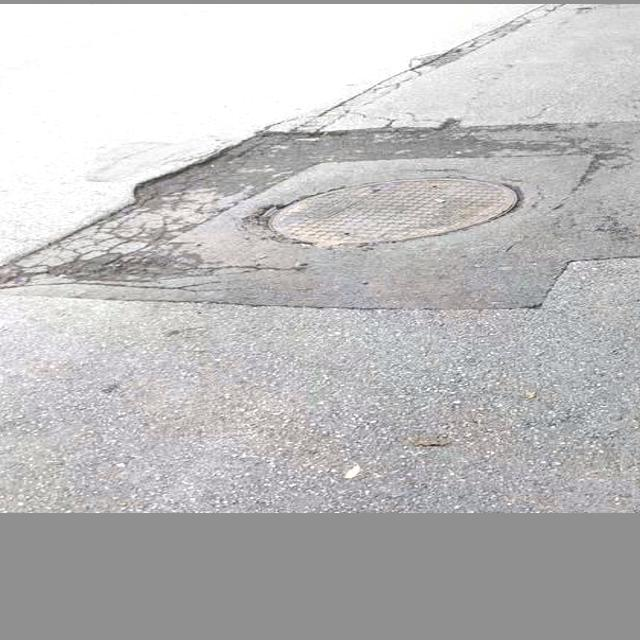circle: (73, 139, 640, 304)
